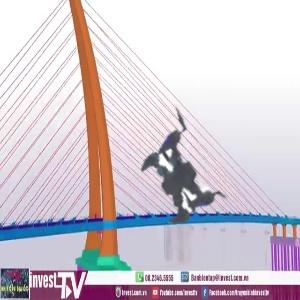drone: (77, 66, 296, 285)
